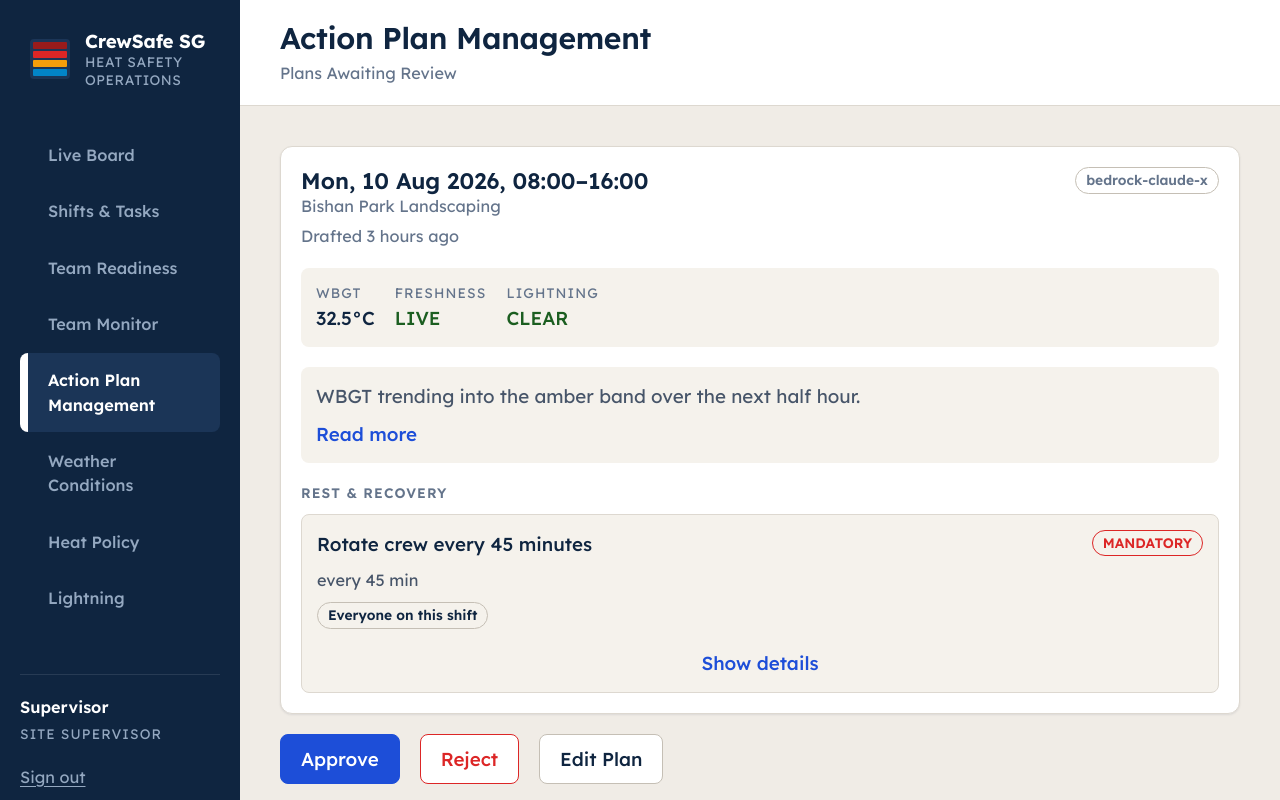
ApprovalsPage › lets a supervisor expand the recommendation rationale
The image size is (1280, 800).
Click the button "Read more" at point(366, 434), box [316,420,417,448]
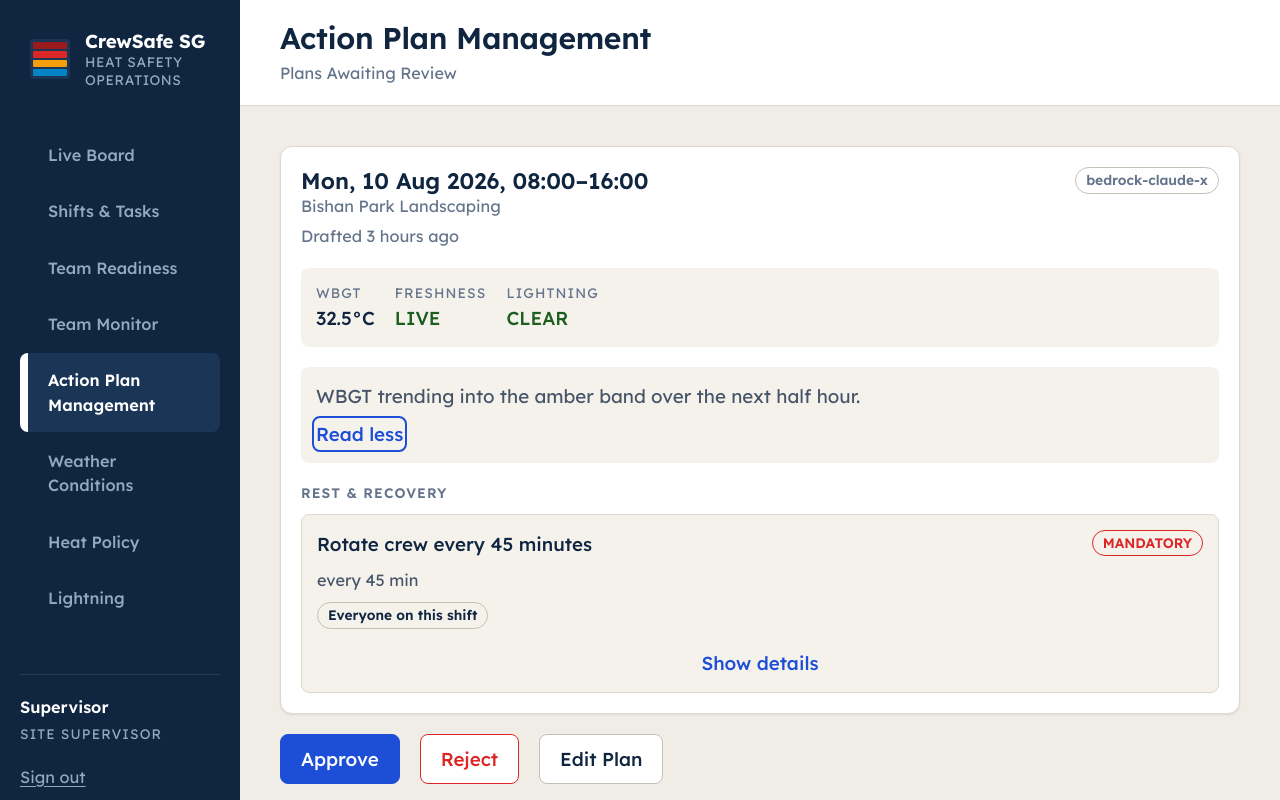
Expected: the button "Read less" is shown, [316,420,403,448]
